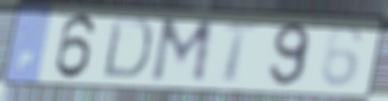6: (318, 23, 366, 91), (52, 12, 98, 82)
9: (266, 20, 313, 90)
D: (98, 15, 155, 82)
M: (146, 16, 218, 87)
T: (218, 20, 262, 85)
